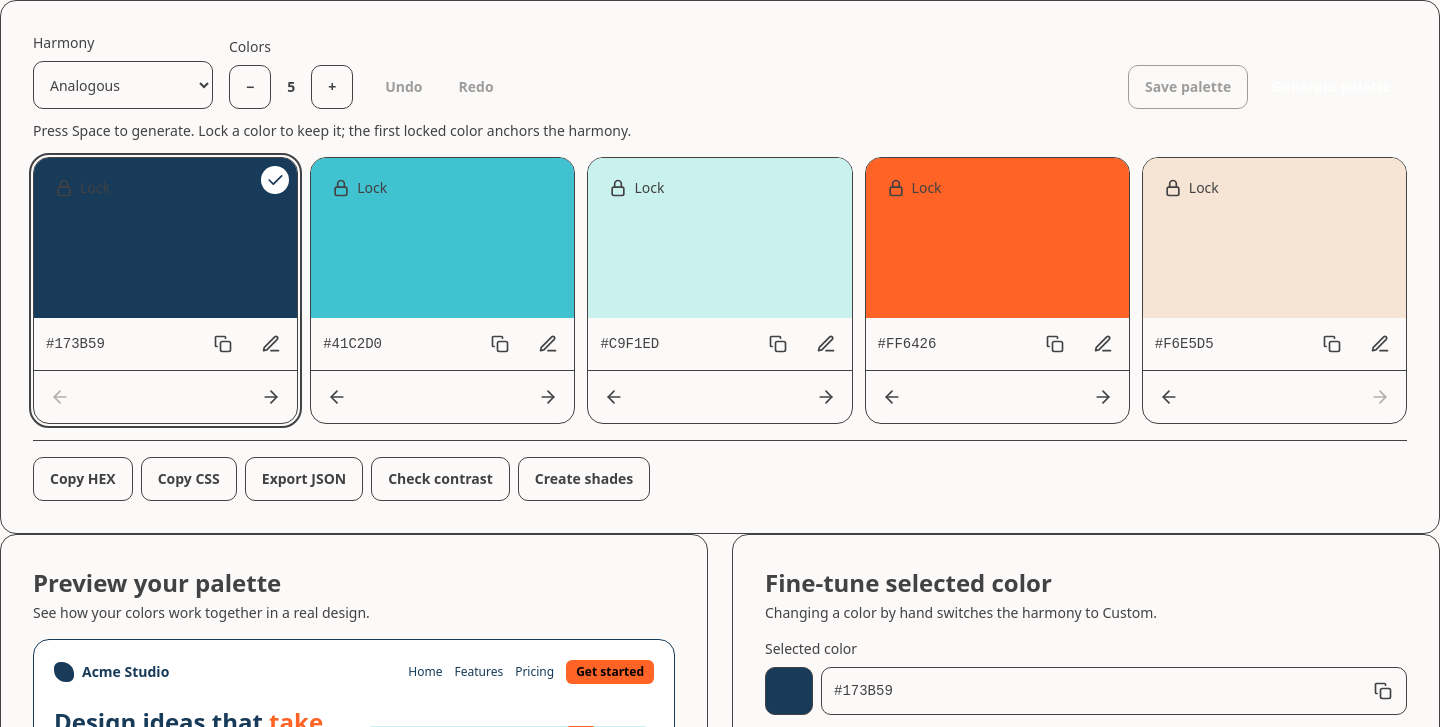
it: PaletteGeneratorView › shows Custom after a manual color change
Step 1. Replace the text in the field labelled "Selected color" with "#000000" → (1114, 691), box [821,667,1407,715]
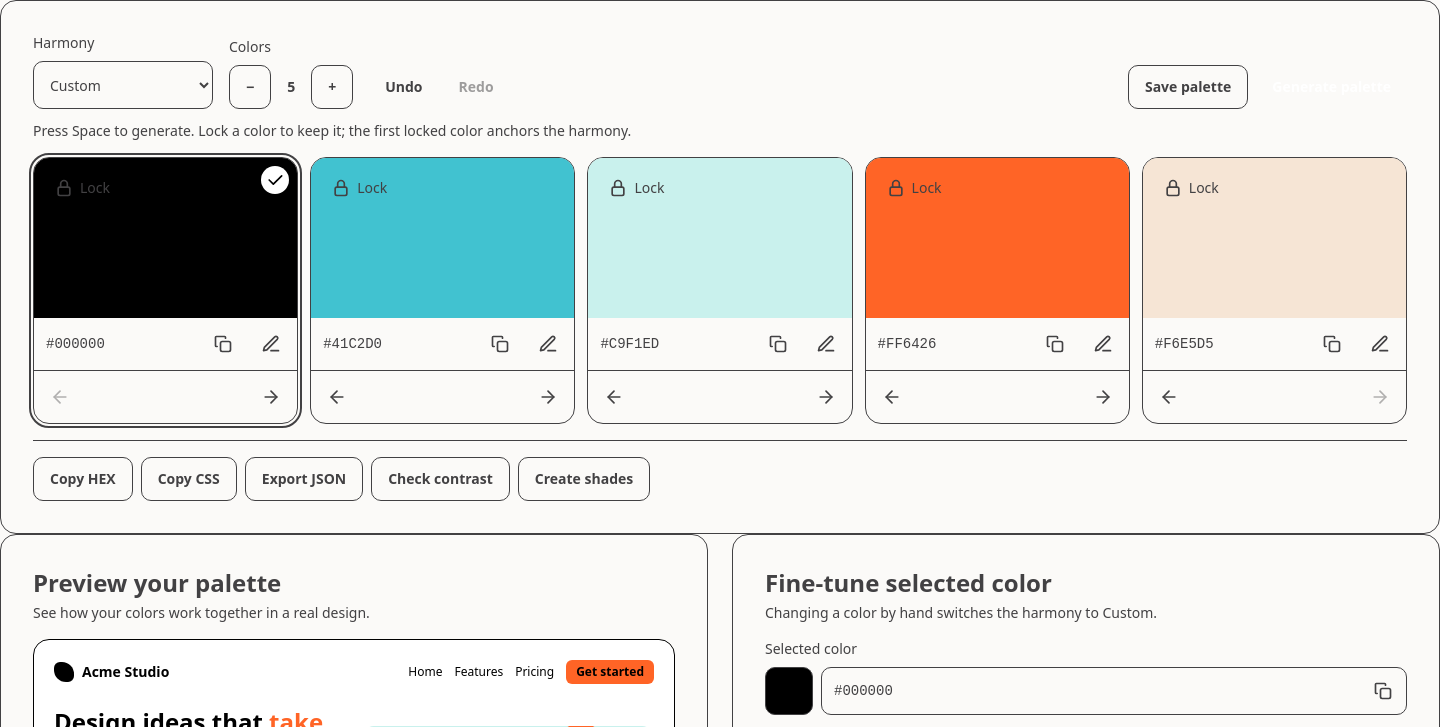
Result: the dropdown labelled "Harmony" shows "Custom" at [33,61,213,109]
